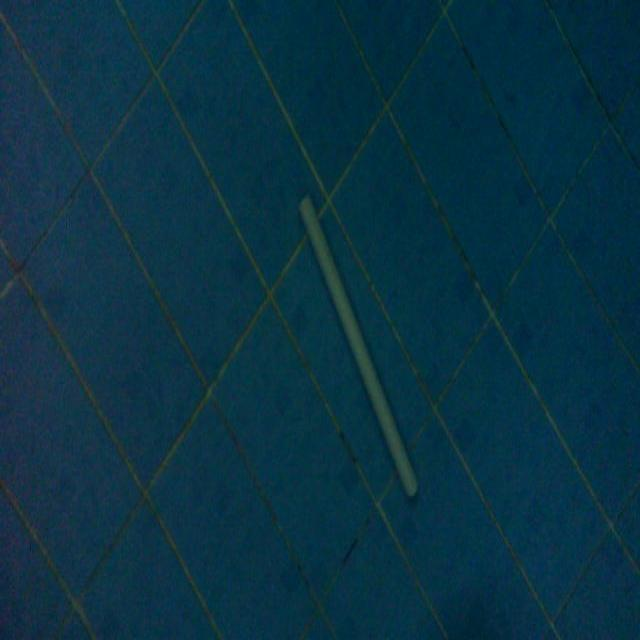Cube: (296, 188, 420, 500)
